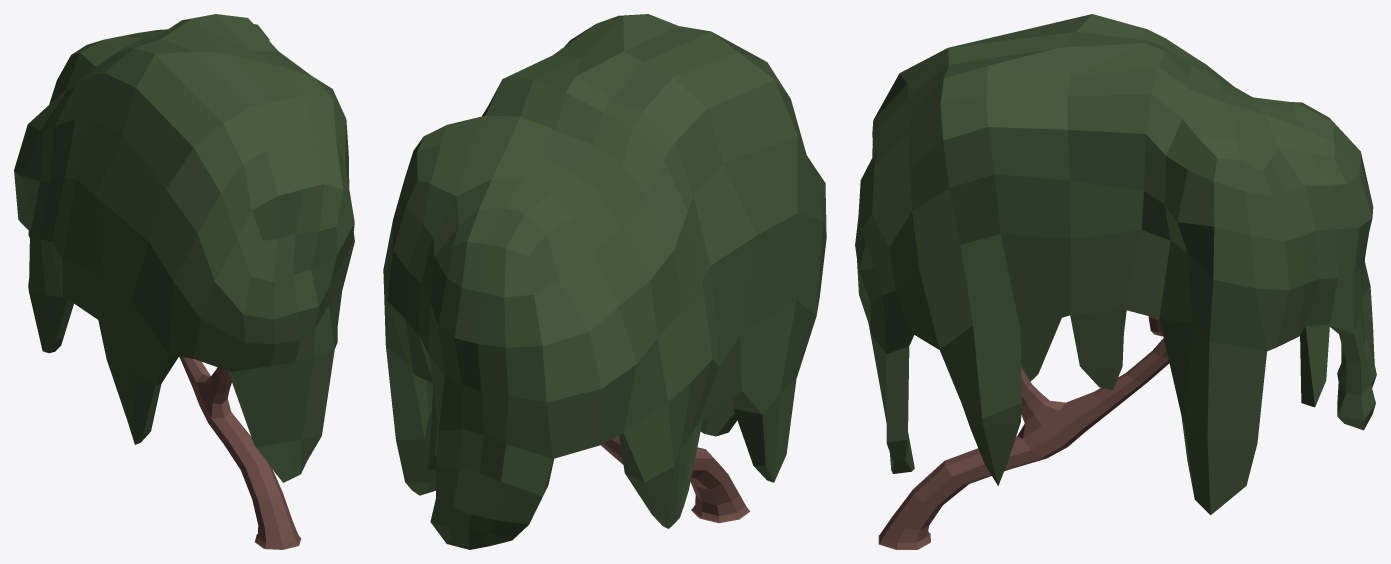
Rendered from willow_2.glb.
3 renders of one model, left to right at view 1: azimuth 30°, elevation 25°; view 2: azimuth 150°, elevation 25°; view 3: azimuth 270°, elevation 25°, orthographic. The views are drawn at different scales.
Visible parts, largest first — view 1: Willow_2; view 2: Willow_2; view 3: Willow_2.
Part boxes in pixels (left/top/right/bottom): Willow_2: left=14, top=14, right=354, bottom=549; Willow_2: left=383, top=14, right=826, bottom=549; Willow_2: left=855, top=14, right=1376, bottom=549.
Size of the model in its own units: 4.89 by 8.31 by 7.77.
